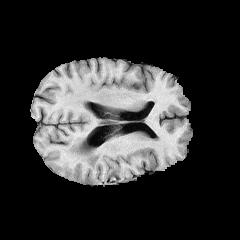glioma: (65, 140, 100, 170)
